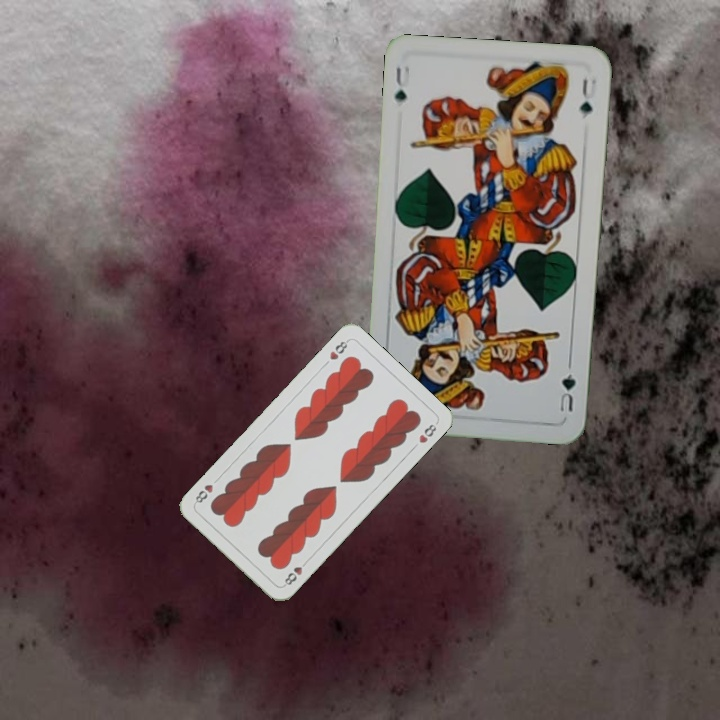GU: (556, 370, 578, 415), (390, 60, 412, 105)
H8: (279, 556, 311, 589), (325, 336, 351, 362)
